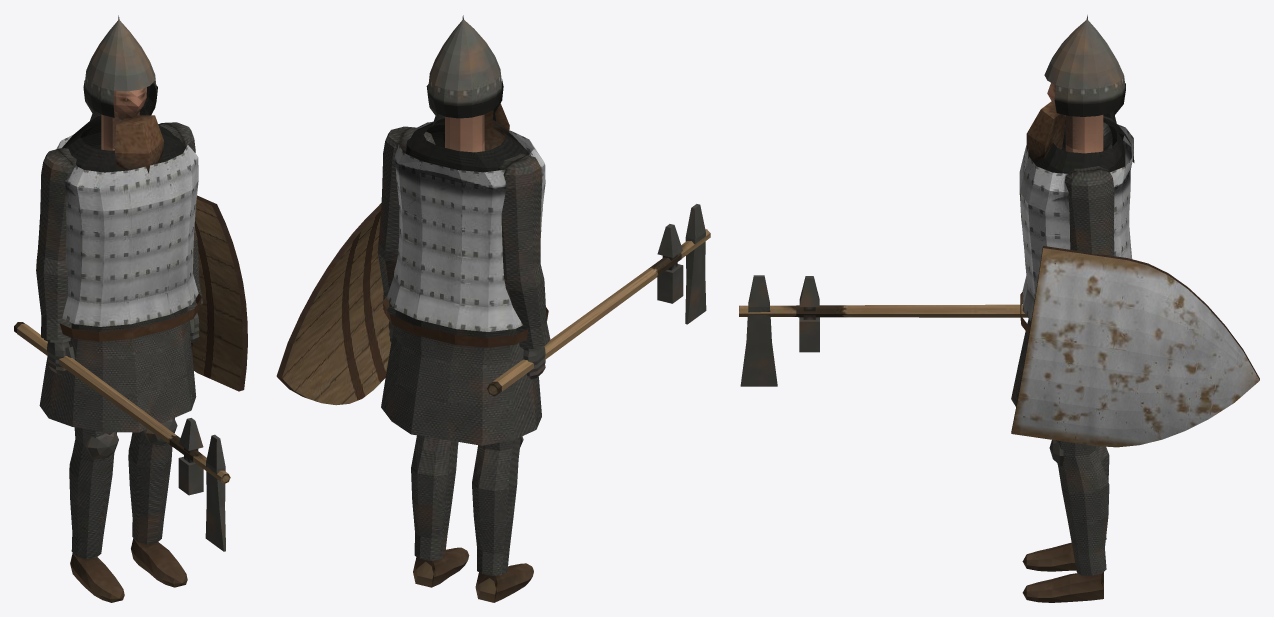
The model's file is dwarves.glb.
3 views of the same model, side by side, from view 1: azimuth 30°, elevation 25°; view 2: azimuth 150°, elevation 25°; view 3: azimuth 270°, elevation 25° (orthographic). The views are drawn at different scales.
Visible parts, largest first — view 1: dwarves_LOD0; view 2: dwarves_LOD0; view 3: dwarves_LOD0.
Boxes of the visible parts, x1=… form: dwarves_LOD0: x1=14, y1=15, x2=247, y2=602; dwarves_LOD0: x1=276, y1=15, x2=710, y2=602; dwarves_LOD0: x1=739, y1=15, x2=1259, y2=602.
Size of what is drawn, in the model's own units: 0.6134 by 1.86 by 1.55.
Materials: 1 (1 with a texture image).
